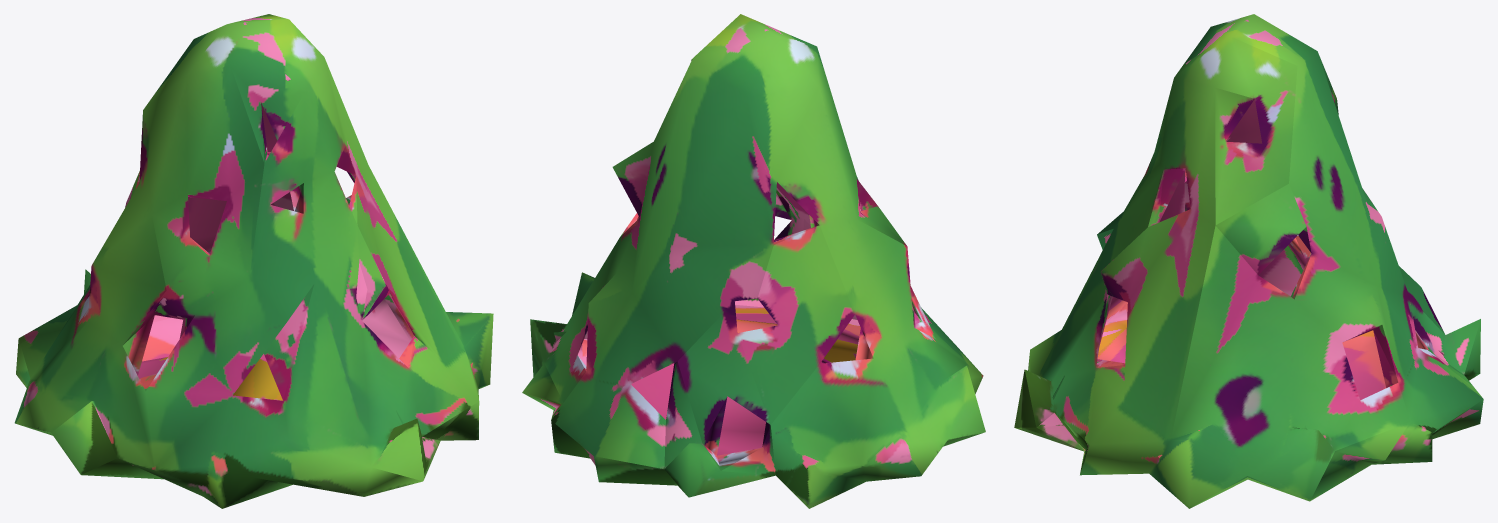
File: gibbering-mound.glb
3 renders of one model, left to right at view 1: azimuth 30°, elevation 25°; view 2: azimuth 150°, elevation 25°; view 3: azimuth 270°, elevation 25°, orthographic.
Parts seen in each view (by area): view 1: geometry_0.001; view 2: geometry_0.001; view 3: geometry_0.001.
Boxes of the visible parts, x1,y1,x2,y2 form: geometry_0.001: (14,14,493,508); geometry_0.001: (522,14,985,508); geometry_0.001: (1014,14,1483,508).
Size of the model in its own units: 0.9938 by 0.9134 by 0.9993.
1 material, 1 textured.
